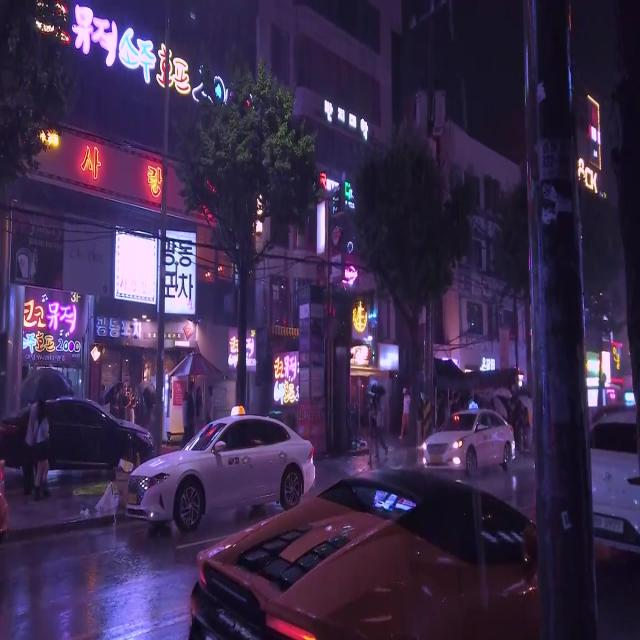Car: (124, 417, 311, 535), (1, 395, 150, 467), (422, 406, 515, 472)
